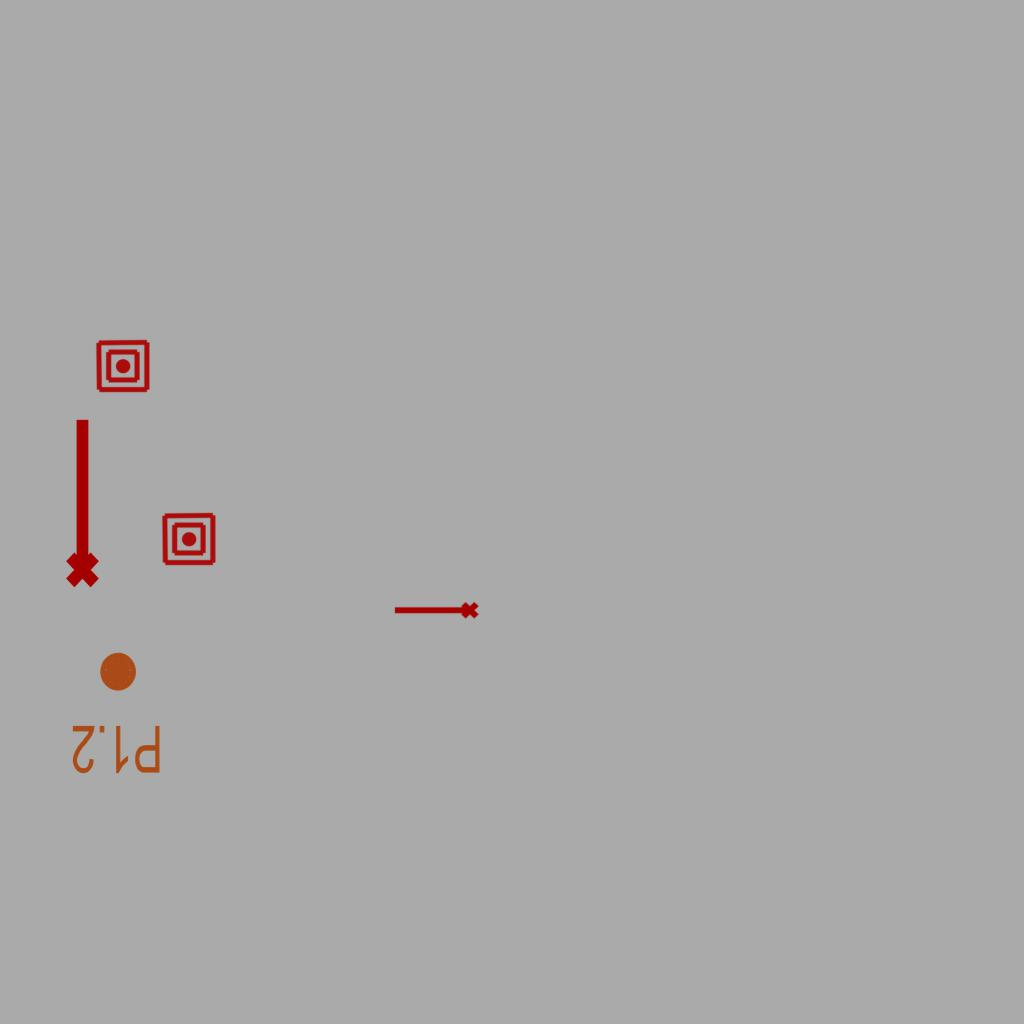ASR_Ansaugoeffnung: (57, 414, 103, 590), (392, 600, 480, 623)
Downlight_LED_Einbauleuchten_Flur: (70, 649, 163, 777)
NAM-Nichtautomatischer_Melder: (161, 511, 217, 567), (95, 338, 151, 394)
